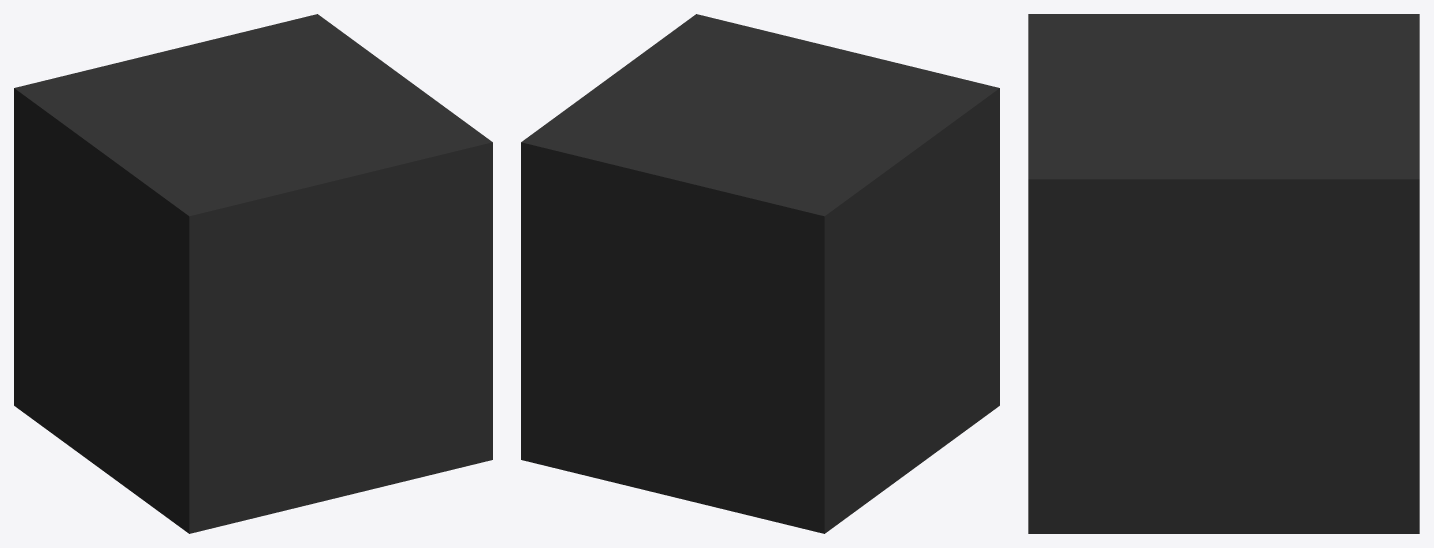
The model's file is quadjoin.gltf.
3 views of the same model, side by side, from view 1: azimuth 30°, elevation 25°; view 2: azimuth 150°, elevation 25°; view 3: azimuth 270°, elevation 25° (orthographic). The views are drawn at different scales.
Parts seen in each view (by area): view 1: InnerCorner; view 2: InnerCorner; view 3: InnerCorner.
Part boxes in pixels (left/top/right/bottom): InnerCorner: left=14, top=14, right=492, bottom=533; InnerCorner: left=521, top=14, right=999, bottom=533; InnerCorner: left=1028, top=14, right=1419, bottom=533.
Size of the model in its own units: 4 by 4 by 4.
Materials: 1 (1 with a texture image).
